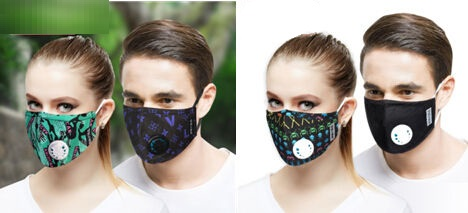face_mask: (267, 63, 342, 169), (26, 62, 99, 170), (122, 59, 198, 162), (363, 52, 437, 155)
